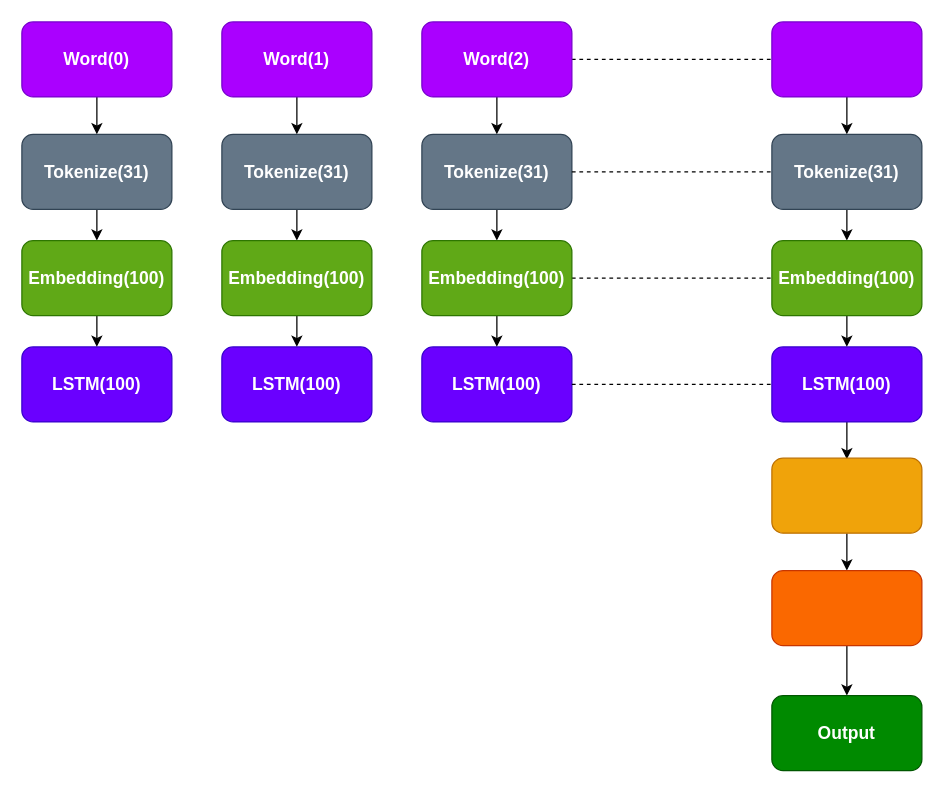
The diagram is 944 pixels wide and 793 high, and some of its shapes have lost their labels. Each missing label, with the centre of its shape:
"Fully Connected(3)" goes at pixel 846 495.
"Softmax" goes at pixel 846 607.
"Word(30)" goes at pixel 846 59.
